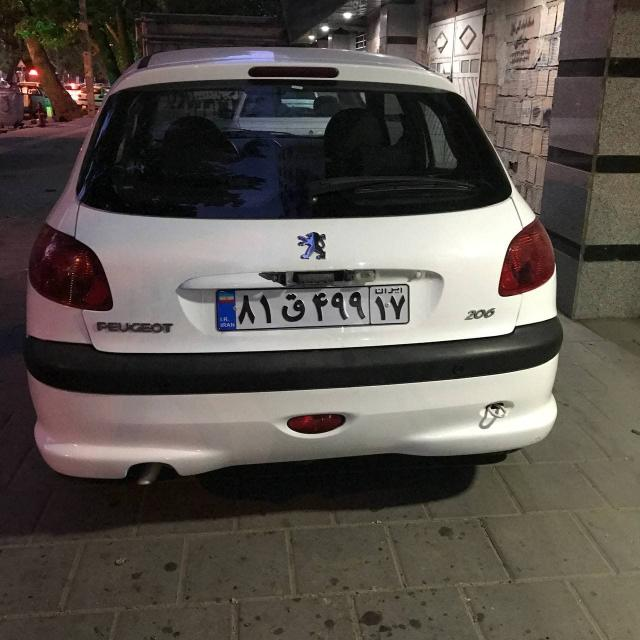Plates: (215, 284, 409, 331)
